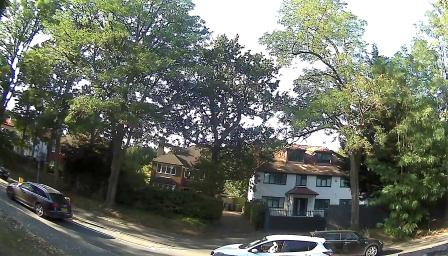Cars: (9, 166, 78, 229)
